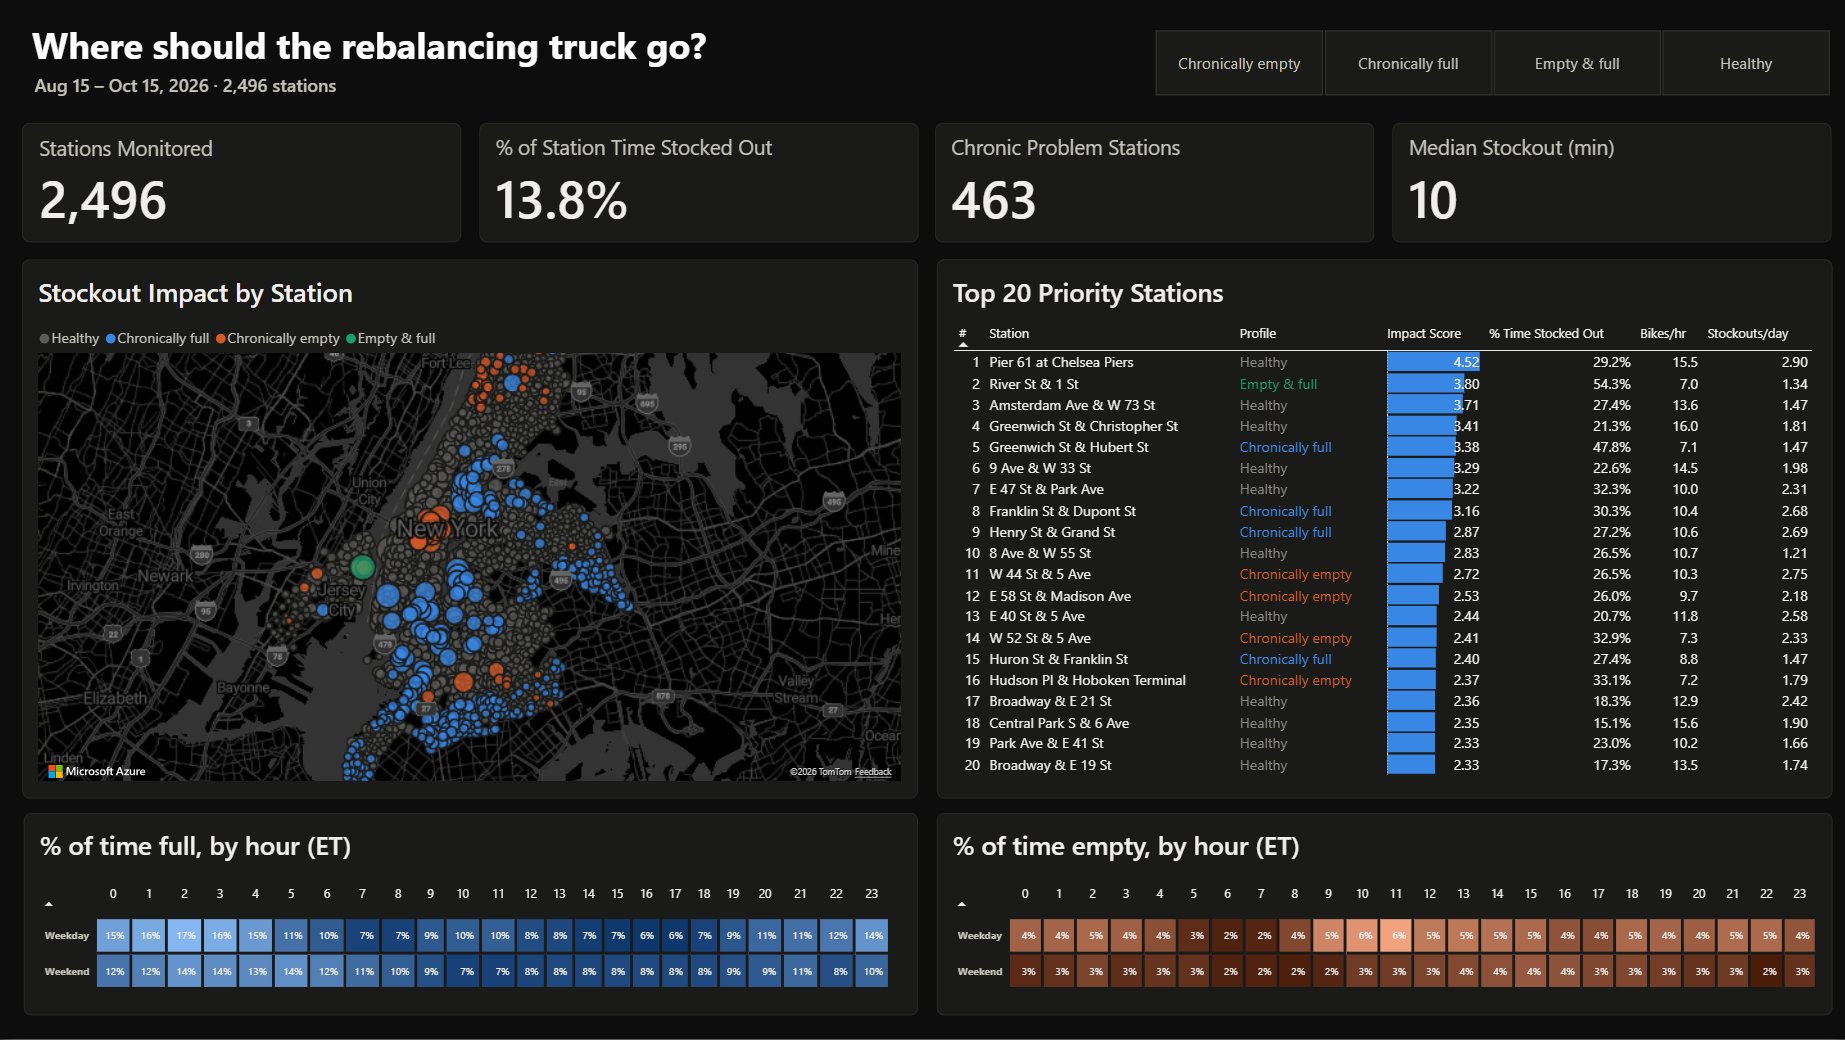

The page's visual inventory and layout, read from the dashboard file:
{"tool":"powerbi","page":{"name":"Overview","canvas":[1920,1080],"ordinal":0},"visuals":[{"type":"textbox","box":[23,21.7,1200,64],"z":0},{"type":"cardVisual","fields":{"Data":["DIM_STATION.Data Window"]},"box":[20,68,760,40],"z":1000},{"type":"slicer","fields":{"Values":["DIM_STATION.Profile"]},"box":[1180,30,740,71.7],"z":2000},{"type":"cardVisual","fields":{"Data":["DIM_STATION.Stations Monitored"]},"box":[24,128,456,124],"z":3000},{"type":"cardVisual","fields":{"Data":["DIM_STATION.Pct Time Stocked Out"]},"box":[498,128,456,124],"z":4000},{"type":"cardVisual","fields":{"Data":["DIM_STATION.Median Stockout Minutes"]},"box":[1446,128,456,124],"z":5000},{"type":"cardVisual","fields":{"Data":["DIM_STATION.Problem Stations"]},"box":[972,128,456,124],"z":6000},{"type":"azureMap","title":"Stockout Impact by Station","fields":{"Series":["DIM_STATION.Profile"],"Size":["Sum(DIM_STATION.STOCKOUT_IMPACT_SCORE)"],"X":["DIM_STATION.LON"],"Y":["DIM_STATION.LAT"]},"box":[22.9,270,930,560],"z":7000},{"type":"tableEx","title":"Top 20 Priority Stations","fields":{"Values":["DIM_STATION.REBALANCING_PRIORITY_RANK","DIM_STATION.STATION_NAME","DIM_STATION.Profile","DIM_STATION.STOCKOUT_IMPACT_SCORE","DIM_STATION.Pct Time Stocked Out","DIM_STATION.BIKES_MOVED_PER_HOUR","DIM_STATION.STOCKOUT_EPISODES_PER_DAY"]},"box":[973.3,270,930,560],"z":8000},{"type":"pivotTable","title":"% of time full, by hour (ET)","fields":{"Columns":["FCT_STATION_HOURLY.HOUR_ET"],"Rows":["FCT_STATION_HOURLY.Day Type"],"Values":["DIM_STATION.Pct Time Full (Hourly)"]},"box":[24.4,845.6,928.9,210],"z":9000},{"type":"pivotTable","title":"% of time empty, by hour (ET)","fields":{"Columns":["FCT_STATION_HOURLY.HOUR_ET"],"Rows":["FCT_STATION_HOURLY.Day Type"],"Values":["DIM_STATION.Pct Time Empty (Hourly)"]},"box":[973.3,845.6,930,210],"z":10000}]}

Visuals, with their boxes in screenshot pixels (x1, y1, x2, y2), scaled from the page's 1920x1080 canvas onto the 1845x1040 screenshot:
textbox: (left=22, top=21, right=1175, bottom=83)
cardVisual - DIM_STATION.Data Window: (left=19, top=65, right=750, bottom=104)
slicer - DIM_STATION.Profile: (left=1134, top=29, right=1844, bottom=98)
cardVisual - DIM_STATION.Stations Monitored: (left=23, top=123, right=461, bottom=243)
cardVisual - DIM_STATION.Pct Time Stocked Out: (left=479, top=123, right=917, bottom=243)
cardVisual - DIM_STATION.Median Stockout Minutes: (left=1390, top=123, right=1828, bottom=243)
cardVisual - DIM_STATION.Problem Stations: (left=934, top=123, right=1372, bottom=243)
"Stockout Impact by Station" azureMap: (left=22, top=260, right=916, bottom=799)
"Top 20 Priority Stations" tableEx: (left=935, top=260, right=1829, bottom=799)
"% of time full, by hour (ET)" pivotTable: (left=23, top=814, right=916, bottom=1017)
"% of time empty, by hour (ET)" pivotTable: (left=935, top=814, right=1829, bottom=1017)
